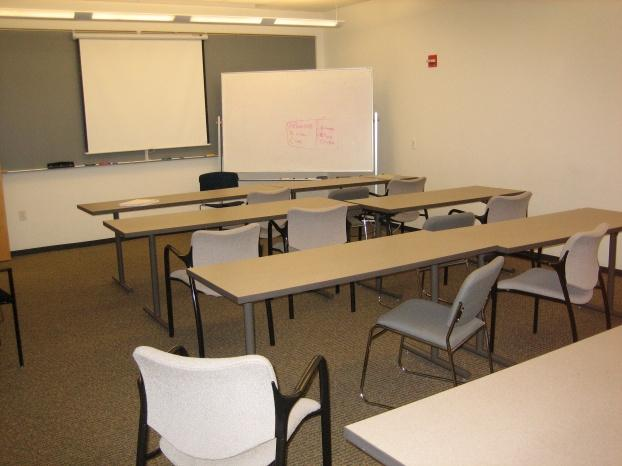Kursi: (131, 342, 330, 465), (358, 254, 503, 408), (495, 223, 610, 343), (164, 221, 260, 294), (267, 205, 348, 254)
Meja: (187, 228, 496, 316), (102, 195, 358, 239), (432, 206, 621, 253), (345, 184, 527, 214)
Whiteboard: (220, 65, 372, 173)
